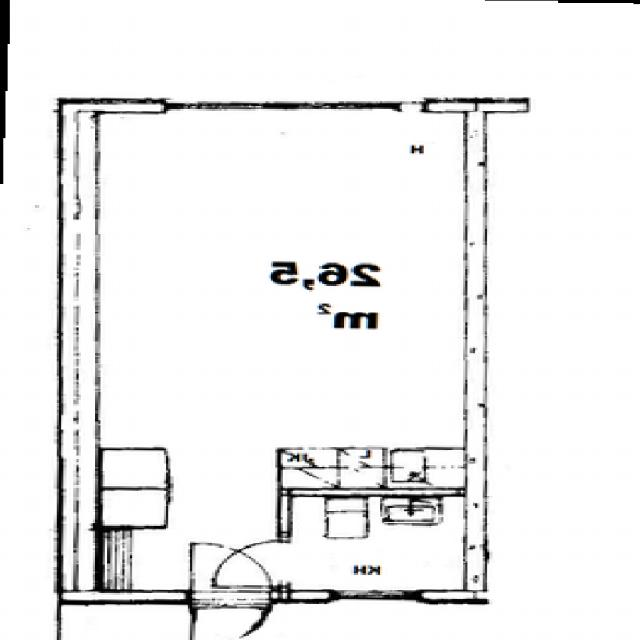door: (192, 540, 271, 603), (192, 590, 271, 640), (206, 541, 292, 586)
